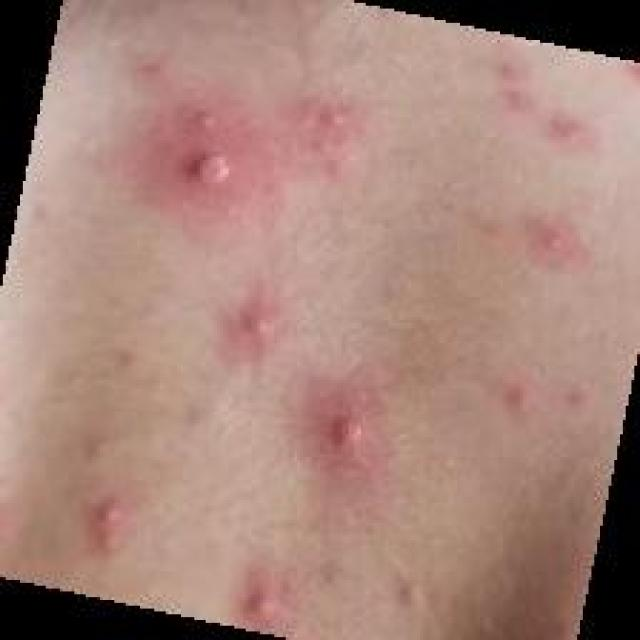others: (80, 60, 581, 640)
